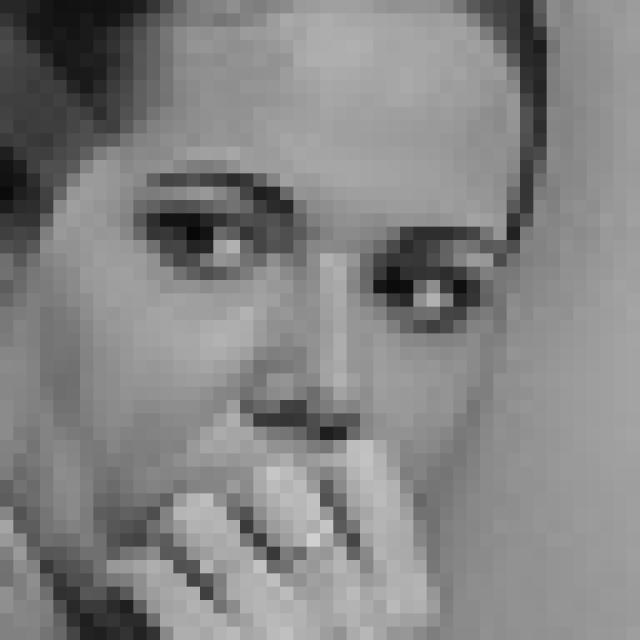fear: (111, 156, 519, 557)
